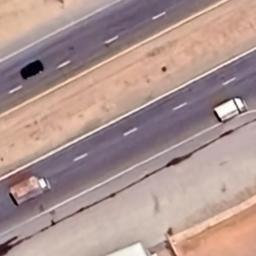sedan: (20, 59, 44, 80)
truck: (8, 174, 52, 206), (213, 96, 249, 124)
